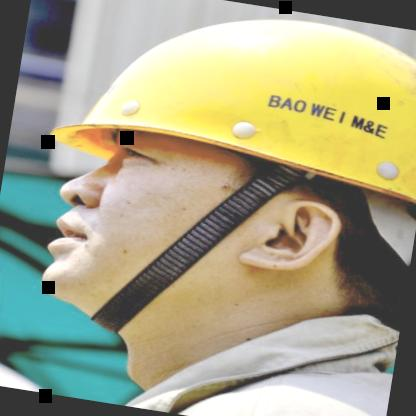helmet: (13, 0, 416, 394)
